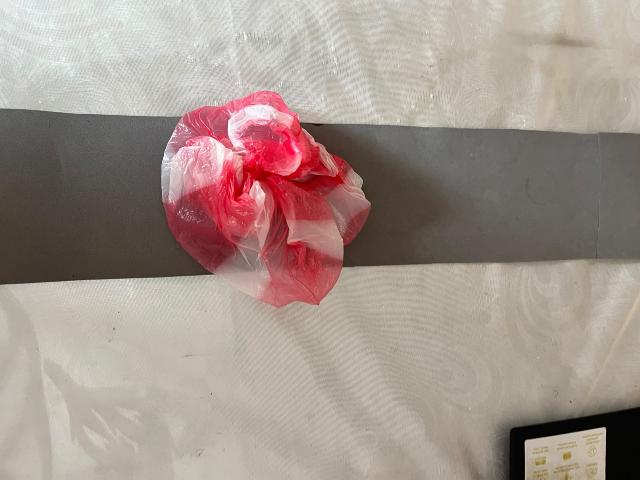LDPE: (119, 56, 437, 375)
